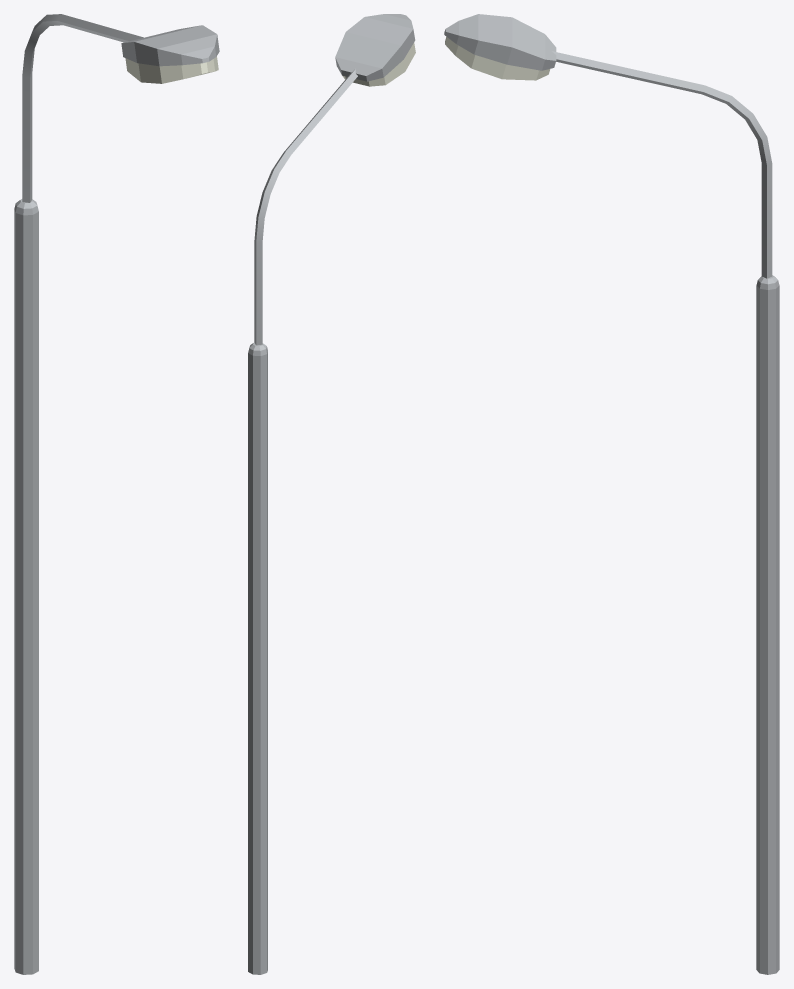
File: SM_streetlamp.fbx
The picture shows the model from 3 angles, left to right: view 1: azimuth 30°, elevation 25°; view 2: azimuth 150°, elevation 25°; view 3: azimuth 270°, elevation 25°; orthographic projection. The views are drawn at different scales.
Parts seen in each view (by area): view 1: Cylinder019; view 2: Cylinder019; view 3: Cylinder019.
Part boxes in pixels (bbox=[...]): Cylinder019: bbox=[14, 14, 219, 974]; Cylinder019: bbox=[248, 14, 415, 974]; Cylinder019: bbox=[444, 14, 779, 974].
Bounding box in the file's own units: 17.68 × 83.04 × 258.
